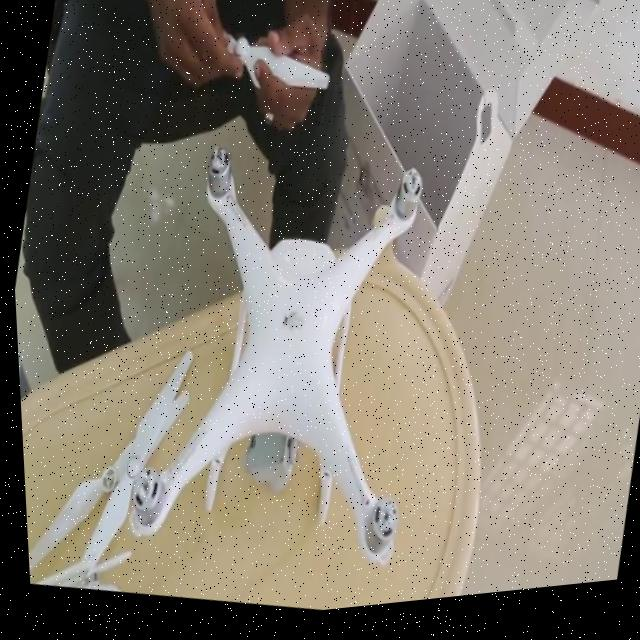drones: (99, 119, 469, 608)
